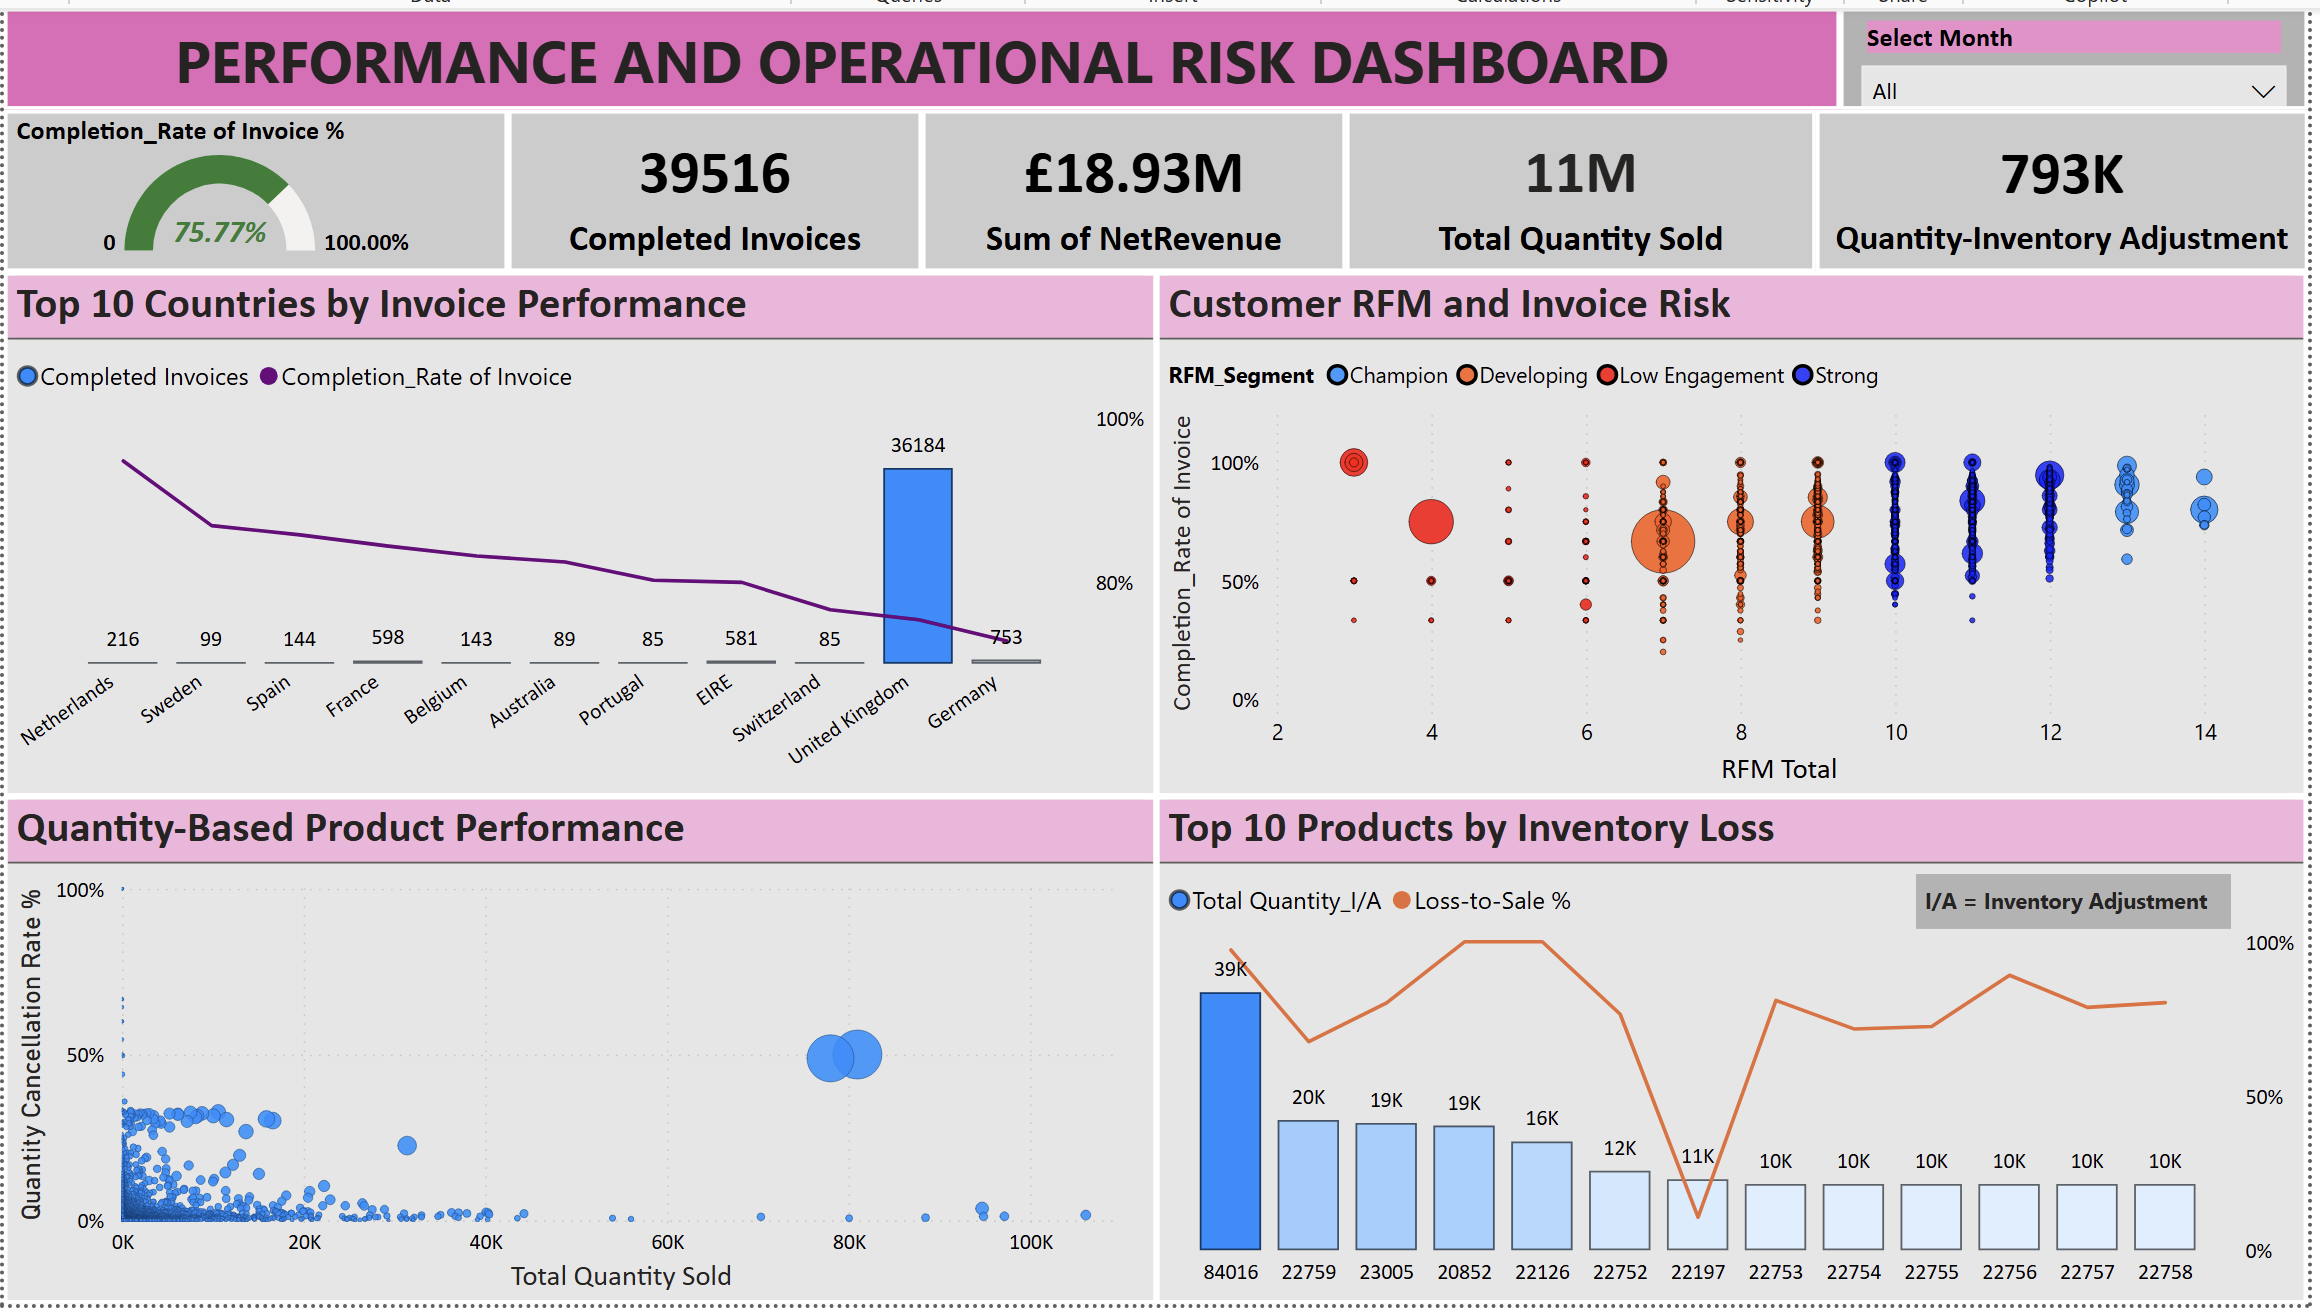

Layout of this report page (visuals, bound fields, positions):
{"tool":"powerbi","page":{"name":"Page 2","canvas":[1280,720],"ordinal":1},"visuals":[{"type":"textbox","box":[0,0,1020,56.7],"z":0},{"type":"lineClusteredColumnComboChart","title":"Top 10 Countries by Invoice Performance","fields":{"Category":["All_Transactions.Country"],"Y":["All_Transactions.Completed Invoices"],"Y2":["All_Transactions.Completion_Rate of Invoice"]},"box":[0,146.3,640.5,291.4],"z":1000},{"type":"lineClusteredColumnComboChart","title":"Top 10 Products by Inventory Loss","fields":{"Category":["Product_Summary.StockCode"],"Y":["Sum(Product_Summary.Total Quantity_I/A)"],"Y2":["Sum(Product_Summary.Loss-to-Sale %)"]},"box":[640.5,437.7,639.3,282.2],"z":2000},{"type":"scatterChart","title":"Customer RFM and Invoice Risk","fields":{"Category":["RFM_Customers (2).Customer ID"],"Series":["RFM_Customers (2).RFM_Segment"],"Size":["Sum(RFM_Customers (2).CancellationValue)"],"X":["Max(RFM_Customers (2).RFM_Total)"],"Y":["All_Transactions.Completion_Rate of Invoice"]},"box":[640.5,146.3,639.3,291.4],"z":3000},{"type":"scatterChart","title":"Quantity-Based Product Performance ","fields":{"Category":["Product_Summary.StockCode"],"Size":["Sum(Product_Summary.Total Quantity_Cancelled)"],"X":["Sum(Product_Summary.Total Quantity Sold)"],"Y":["Sum(Product_Summary.Quantity Cancellation Rate %)"]},"box":[0,437.7,640.5,282.2],"z":4000},{"type":"card","fields":{"Values":["Sum(All_Transactions.NetRevenue)"]},"box":[510,56.7,235.6,90],"z":5000},{"type":"card","fields":{"Values":["All_Transactions.Completed Invoices"]},"box":[280,56.7,230,90],"z":6000},{"type":"card","fields":{"Values":["Sum(All_Transactions.Quantity_I/A)"]},"box":[1006.7,56.7,273.3,90],"z":7000},{"type":"card","fields":{"Values":["Sum(Product_Summary.Total Quantity Sold)"]},"box":[745.6,56.7,261.1,90],"z":8000},{"type":"slicer","fields":{"Values":["All_Transactions.Start of Month (Month)"]},"box":[1020,0,260,56.7],"z":9000},{"type":"gauge","title":"Completion_Rate of Invoice %","fields":{"MaxValue":["All_Transactions.Gauge maximum"],"MinValue":["All_Transactions.Gauge minimum"],"Y":["All_Transactions.Completion_Rate of Invoice"]},"box":[0,56.7,280,90],"z":10000},{"type":"textbox","box":[1062.4,481,175,30.4],"z":11000}]}

Visuals, with their boxes on the page's 1280x720 design canvas (x1, y1, x2, y2). These are canvas units, not pixel positions in the 2320x1312 screenshot, which may show the page scaled, cropped or inside an application window:
textbox: rect(0, 0, 1020, 57)
"Top 10 Countries by Invoice Performance" lineClusteredColumnComboChart: rect(0, 146, 640, 438)
"Top 10 Products by Inventory Loss" lineClusteredColumnComboChart: rect(640, 438, 1280, 720)
"Customer RFM and Invoice Risk" scatterChart: rect(640, 146, 1280, 438)
"Quantity-Based Product Performance " scatterChart: rect(0, 438, 640, 720)
card - Sum(All_Transactions.NetRevenue): rect(510, 57, 746, 147)
card - All_Transactions.Completed Invoices: rect(280, 57, 510, 147)
card - Sum(All_Transactions.Quantity_I/A): rect(1007, 57, 1280, 147)
card - Sum(Product_Summary.Total Quantity Sold): rect(746, 57, 1007, 147)
slicer - All_Transactions.Start of Month (Month): rect(1020, 0, 1280, 57)
"Completion_Rate of Invoice %" gauge: rect(0, 57, 280, 147)
textbox: rect(1062, 481, 1237, 511)
